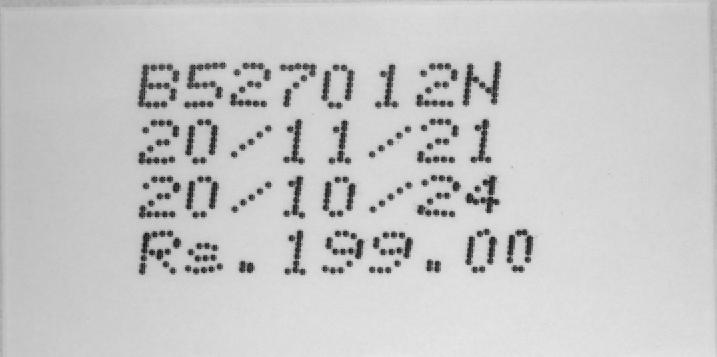.: (232, 251, 266, 281), (419, 251, 453, 281)
/: (362, 171, 417, 222), (362, 117, 417, 168), (224, 171, 278, 222), (223, 117, 277, 168)
0: (461, 225, 502, 277), (501, 224, 542, 276), (318, 61, 359, 111), (182, 117, 223, 167), (183, 173, 224, 223), (319, 172, 360, 222)
1: (367, 62, 408, 112), (278, 116, 315, 167), (323, 117, 360, 168), (465, 116, 502, 167), (278, 172, 315, 223), (279, 227, 316, 278)
2: (133, 116, 184, 168), (134, 171, 185, 223), (413, 116, 465, 165), (411, 60, 463, 109), (413, 174, 464, 220), (229, 59, 274, 109)
4: (462, 172, 509, 218)
5: (182, 60, 230, 110)
7: (275, 60, 320, 110)
9: (318, 227, 368, 277), (365, 229, 418, 276)
B: (133, 62, 184, 111)
N: (460, 57, 505, 109)
R: (136, 229, 185, 277)
S: (185, 239, 226, 276)
